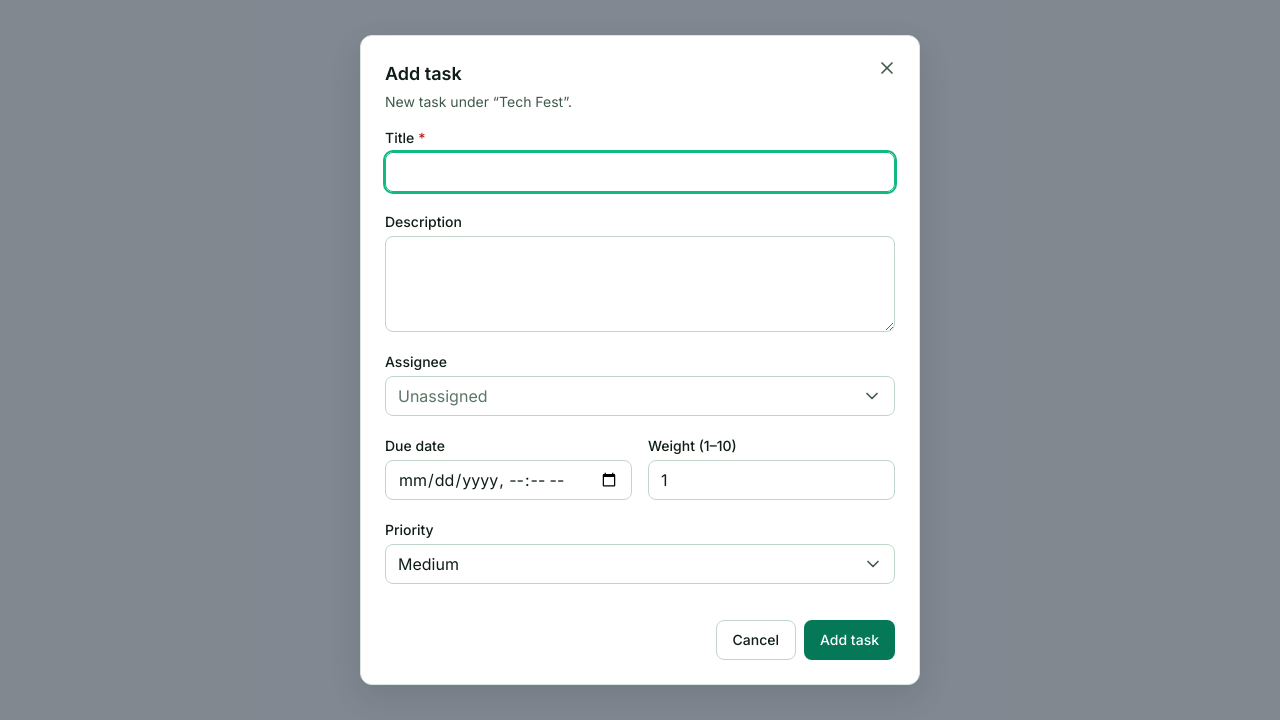
Test: NodeFormDialog: error codes › shows the catalogue message for E_MAX_DEPTH
The image size is (1280, 720).
In the field labelled "Title*": [640, 172] box [385,152,895,192], type "x"
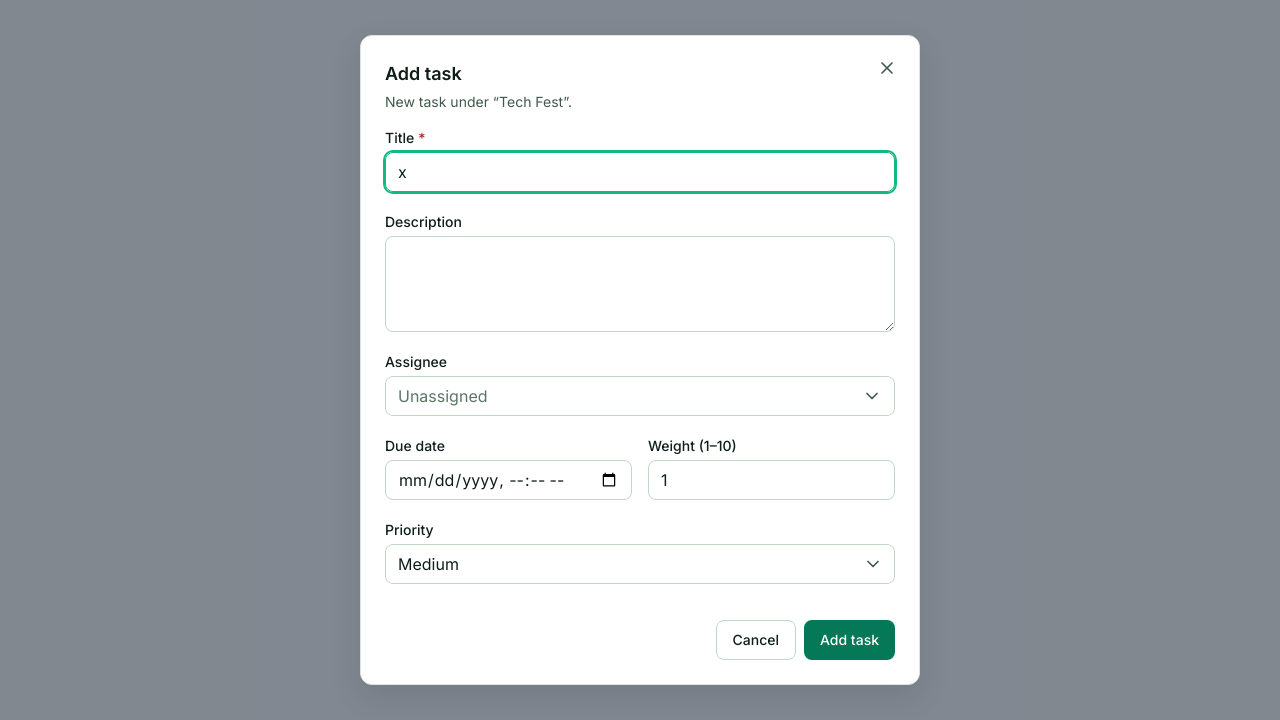
Click the button "Add task": [850, 640] box [804,620,895,660]
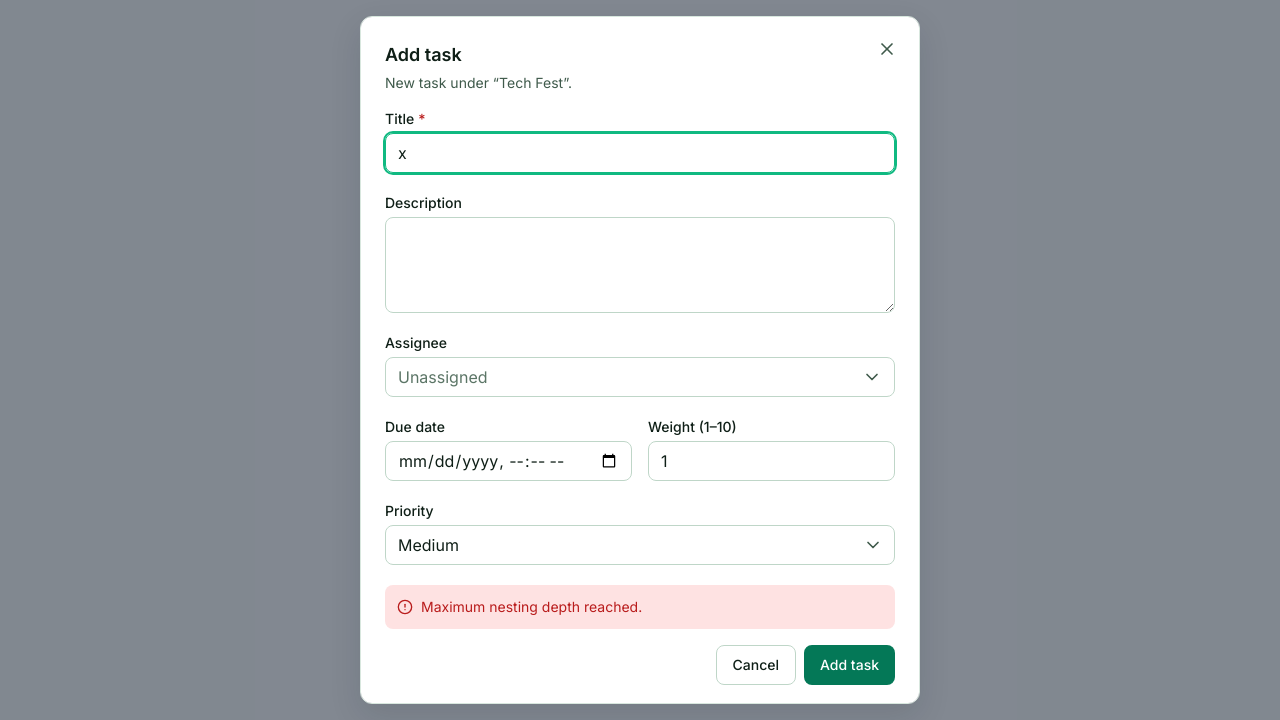
Now the message reads "Maximum nesting depth reached.", box [421,598,642,615]
